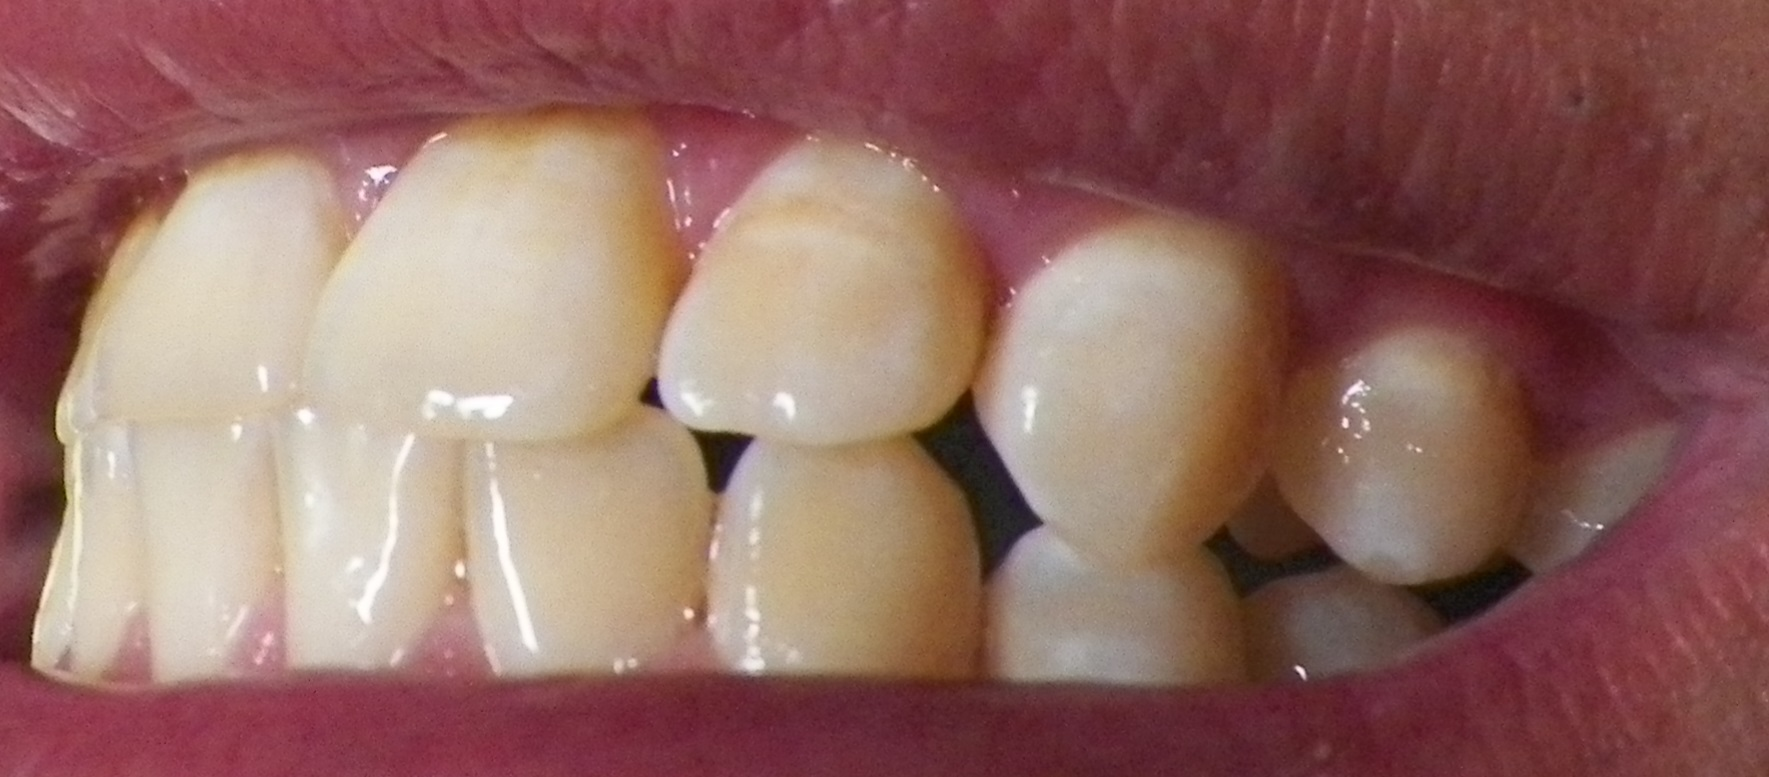boca: (50, 118, 1620, 679)
